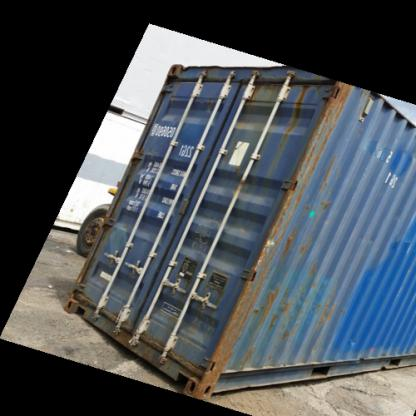Damage: (235, 173, 315, 289), (294, 78, 358, 182), (198, 261, 248, 387), (260, 288, 352, 330), (298, 175, 350, 214)
